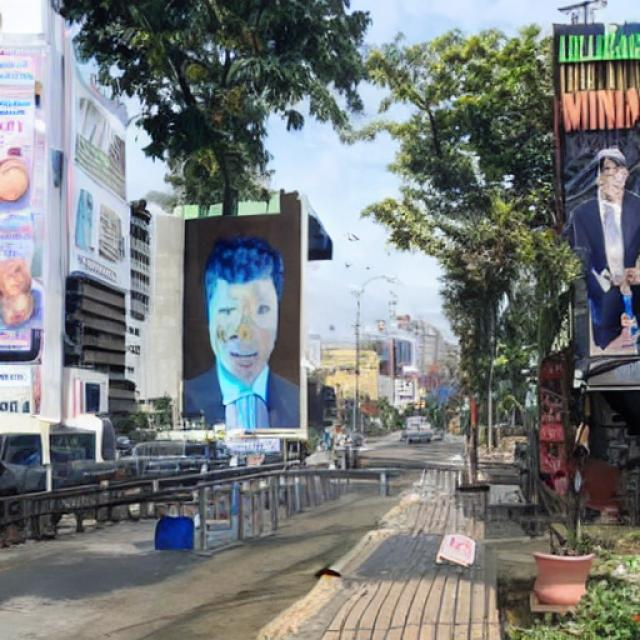Billboard: (548, 24, 640, 363), (181, 194, 306, 441)
